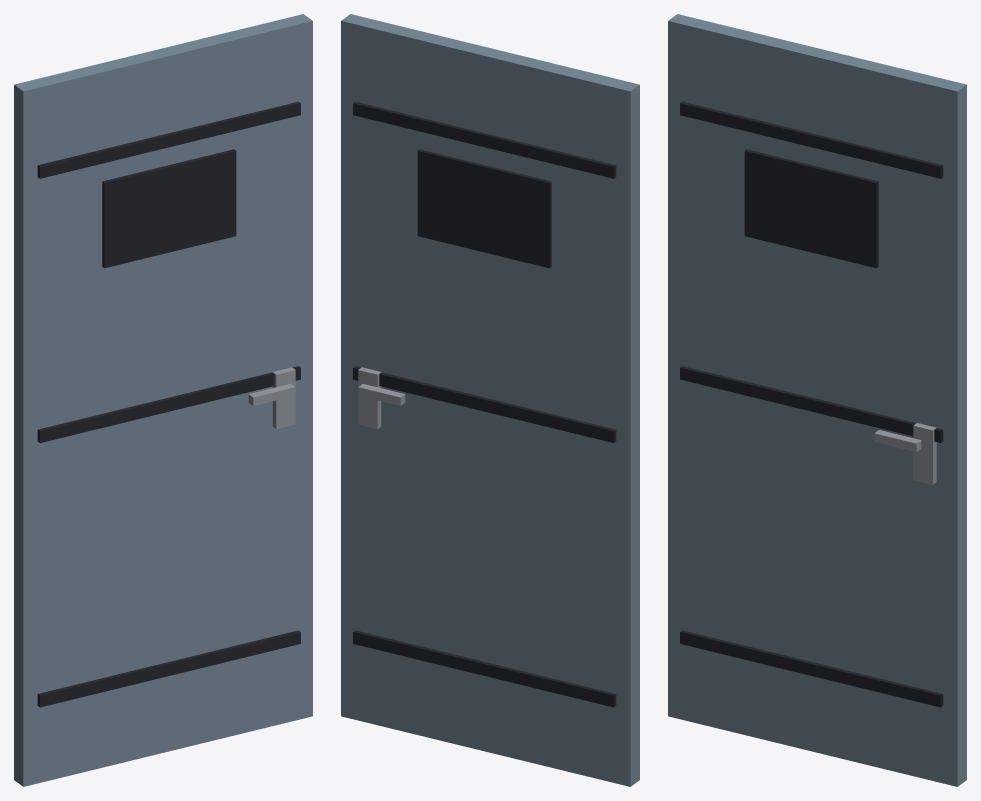
Rendered from SM_Door_metal_90x205.fbx.
3 views of the same model, side by side, from view 1: azimuth 30°, elevation 25°; view 2: azimuth 150°, elevation 25°; view 3: azimuth 330°, elevation 25° (orthographic).
Parts seen in each view (by area): view 1: SM_Door_metal_90x205; view 2: SM_Door_metal_90x205; view 3: SM_Door_metal_90x205.
Boxes of the visible parts, x1,y1,x2,y2 form: SM_Door_metal_90x205: (14, 14, 312, 786); SM_Door_metal_90x205: (341, 14, 639, 786); SM_Door_metal_90x205: (668, 14, 966, 786).
Size of the model in its own units: 0.888 by 2.04 by 0.175.
